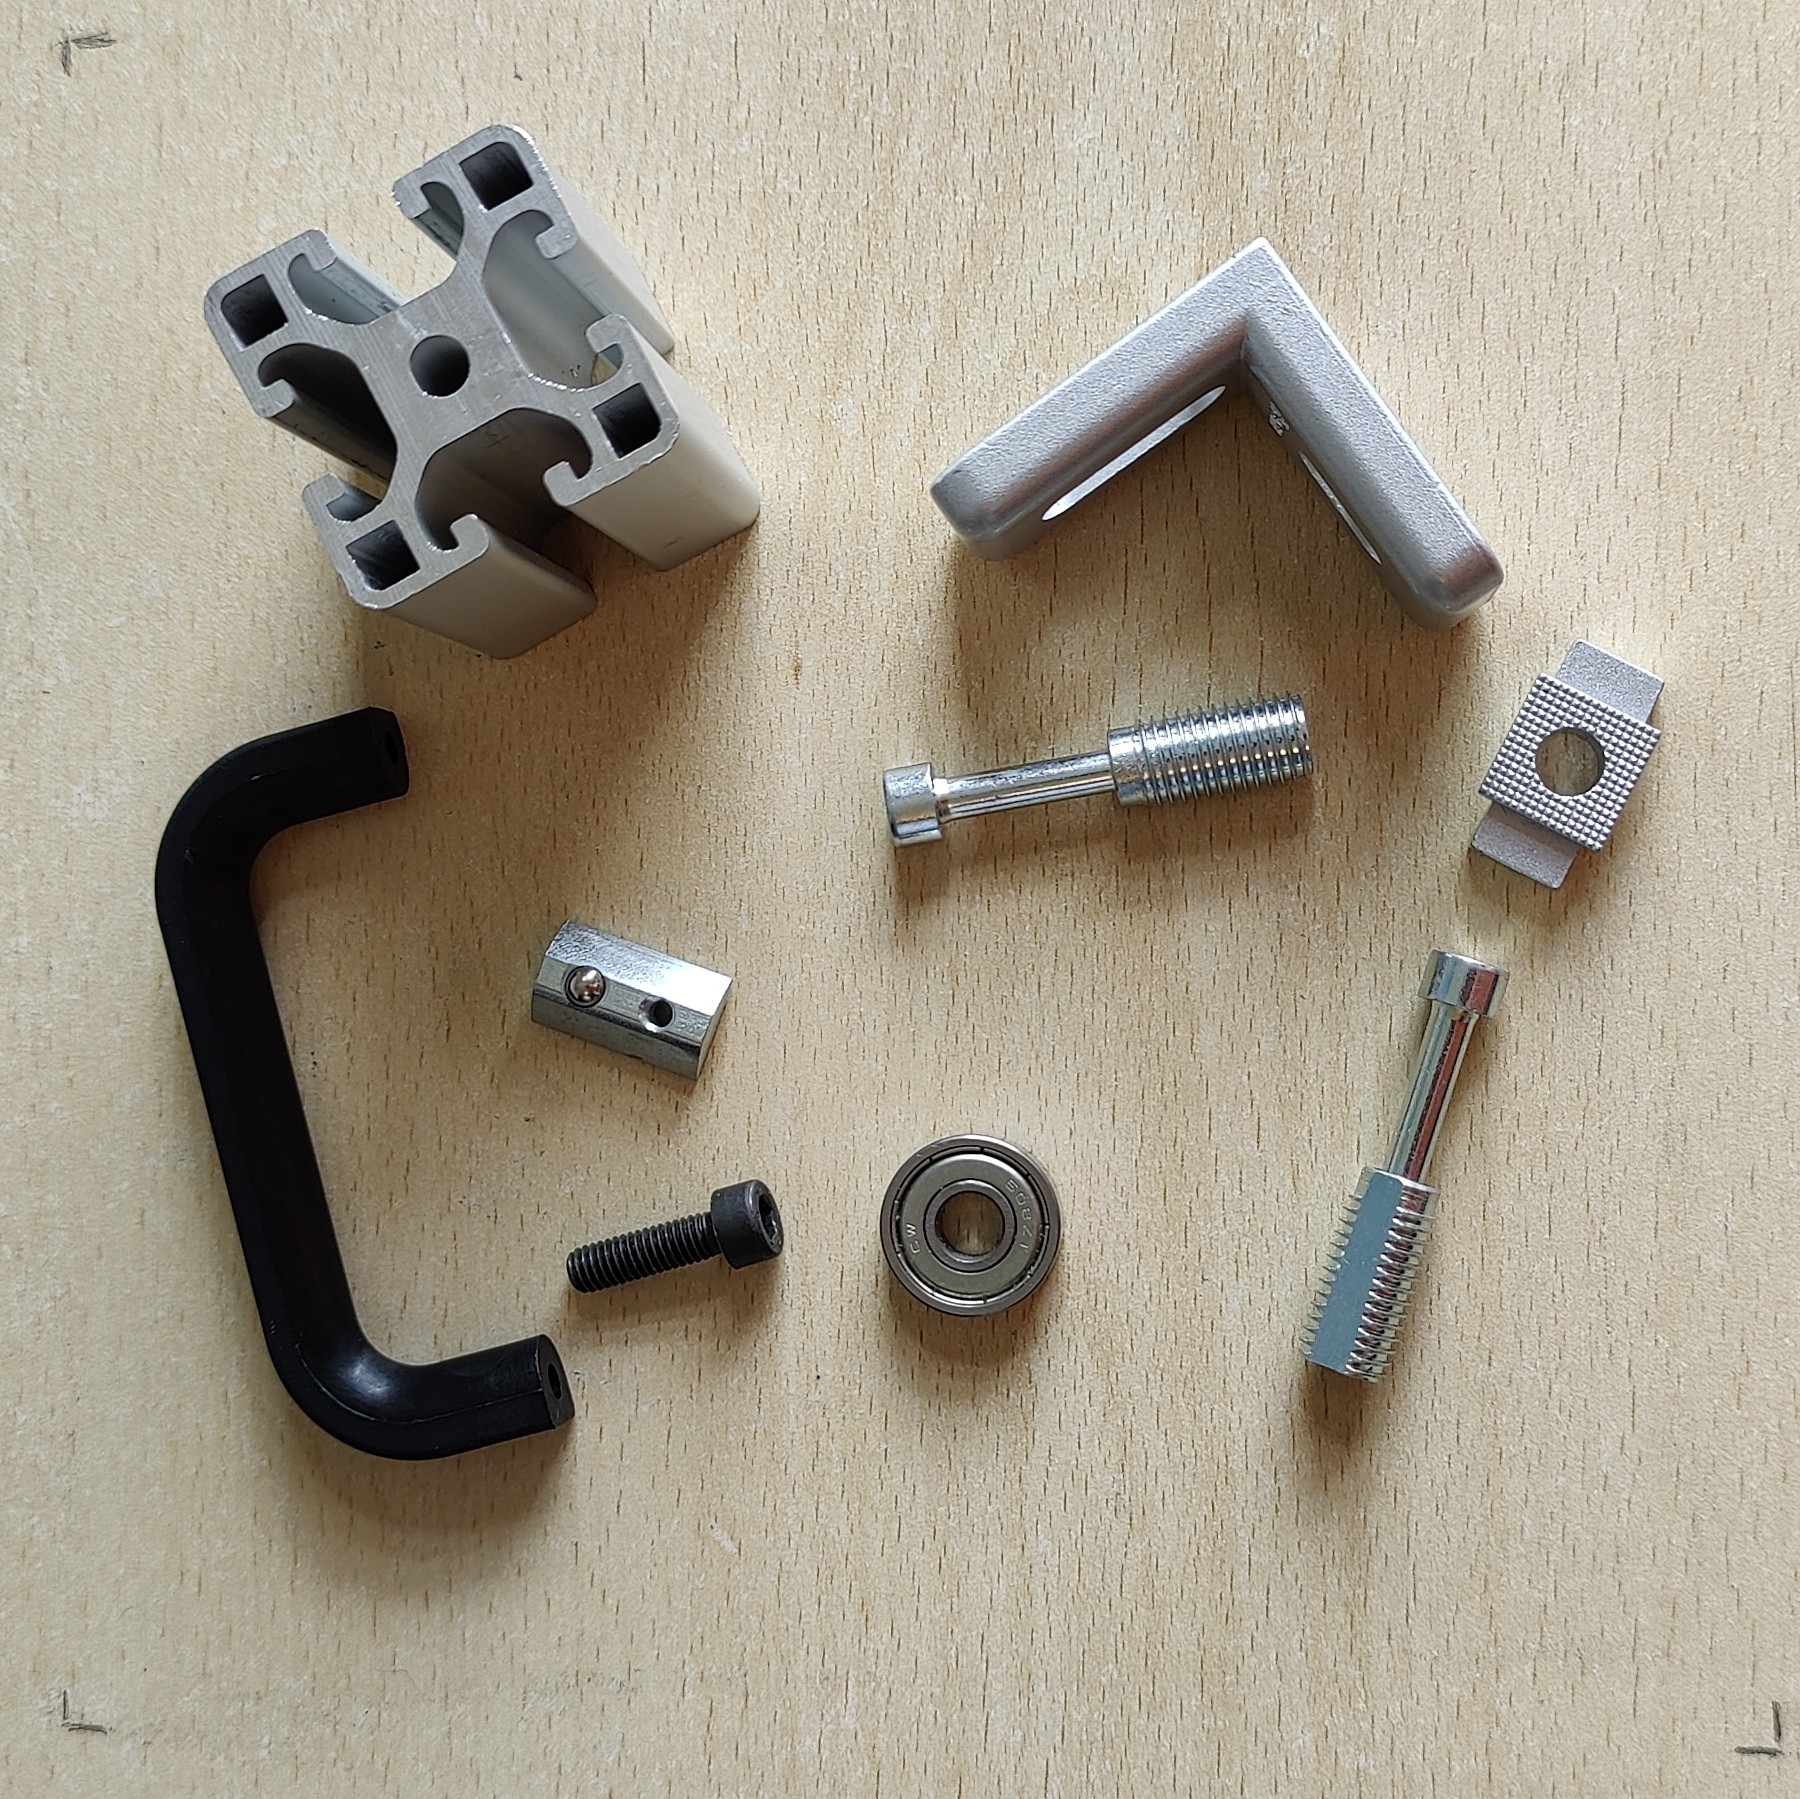Aluminium Extension: (201, 119, 766, 662)
Ball Bearing: (878, 1133, 1062, 1320)
Multiwinkel: (929, 234, 1505, 634)
Pull Handle: (152, 702, 576, 1465)
Shoulder Socket Head Cap Screw: (1293, 942, 1515, 1390), (879, 684, 1317, 852)
Socket Head Cap Screw: (565, 1176, 786, 1293)
T Nut Square: (1469, 634, 1668, 891)
T Spring Nut: (527, 918, 736, 1084)
